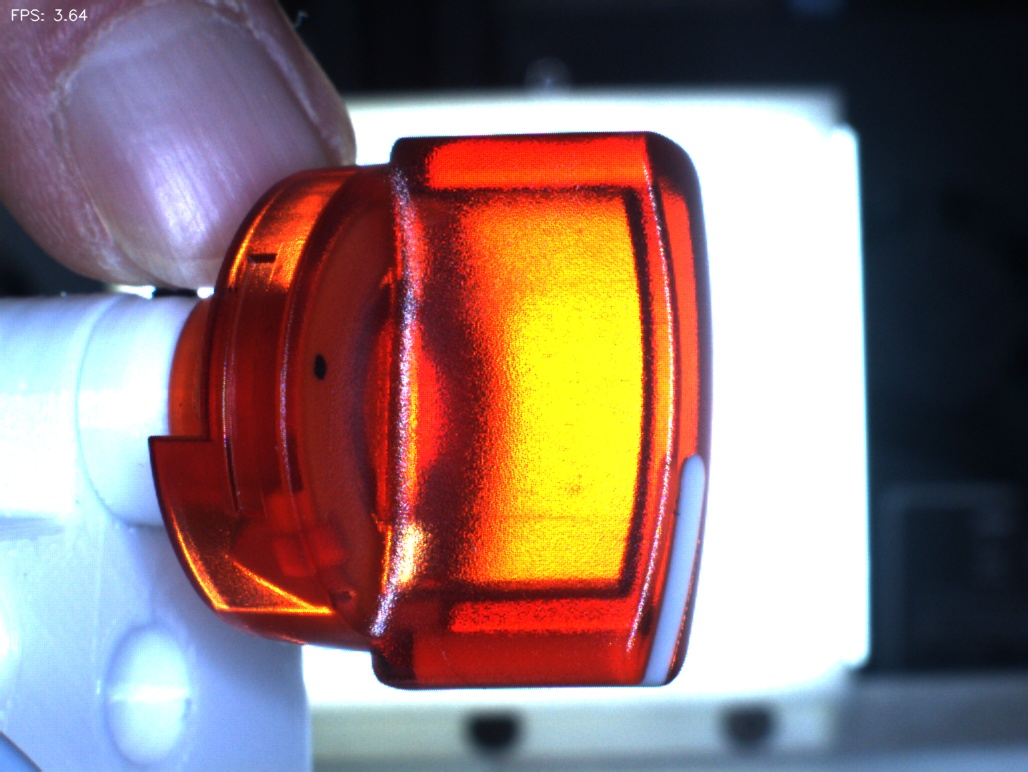PointNoir: (284, 323, 362, 413)
